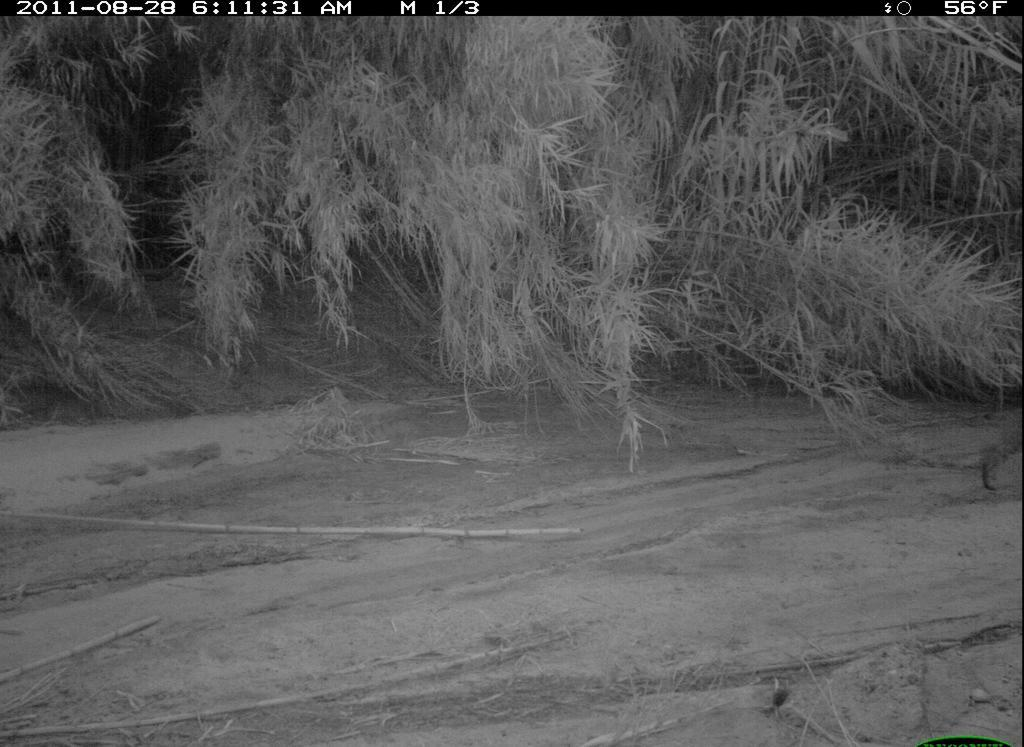bobcat: (961, 396, 1023, 496)
